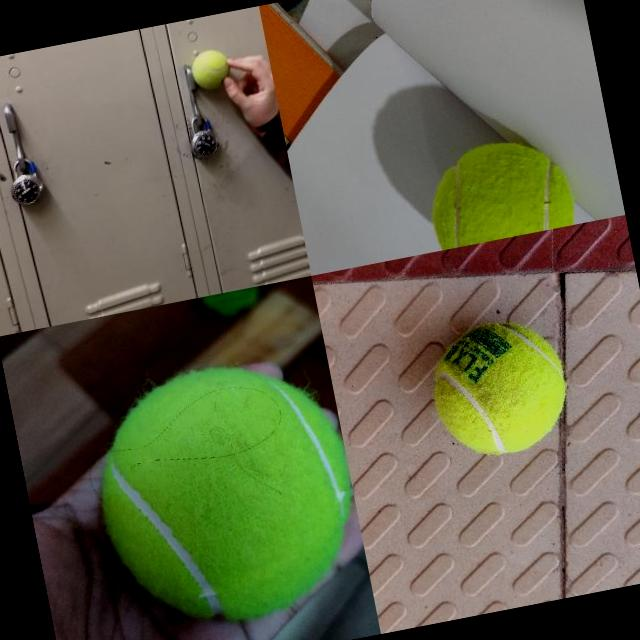tennis-ball: (83, 350, 371, 640), (424, 312, 576, 464), (418, 128, 580, 250), (188, 46, 234, 92)
